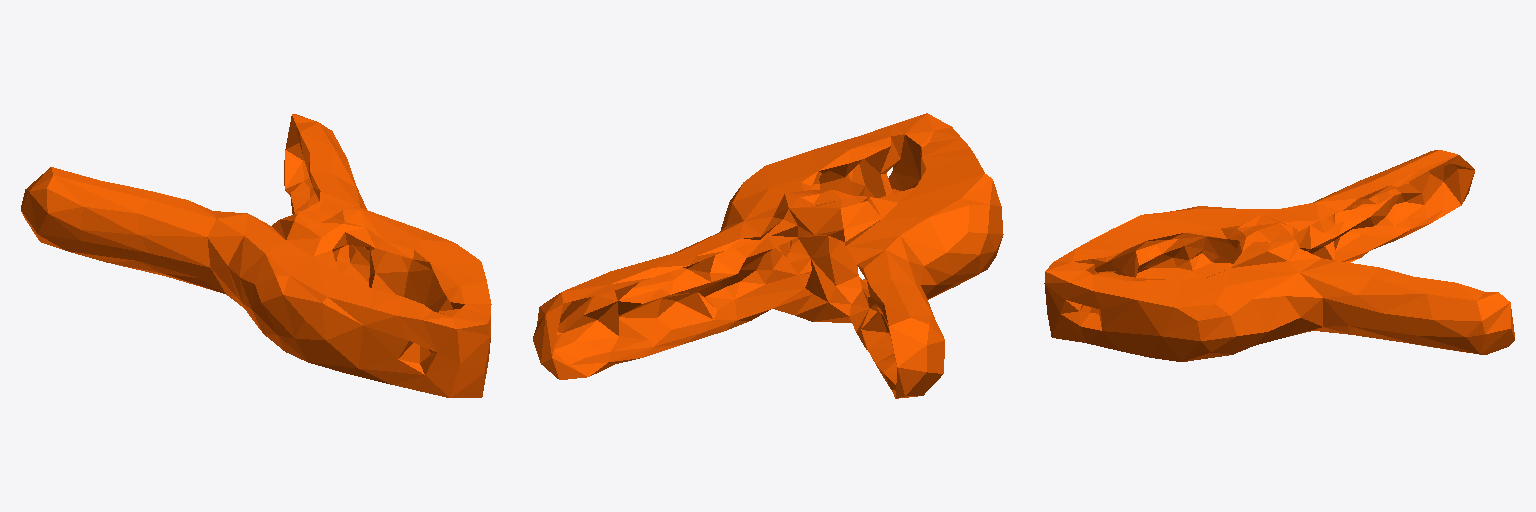
The robot description file, URDF, robot "051_large_clamp":
<?xml version="1.0" ?>
<robot name="051_large_clamp">
   <material name="obj_color">
      <color rgba="1.0 0.423529411765 0.0392156862745 1.0"/>
   </material>
   <link name="top">
      <inertial>
         <origin rpy="0.0001436432541415591 0.0002626893727610714 0.0003851939062057936" xyz="0.001584835345968209 -0.01194656325882585 -0.001367539672192929"/>
         <mass value="0.1695701014449372"/>
         <inertia ixx="0.0002597484097816631" ixy="2.11652629713565e-05" ixz="1.335456037694295e-05" iyy="0.0001484994902081587" iyz="-1.298009128614379e-05" izz="0.0003832786331186023"/>
      </inertial>
      <visual>
         <origin rpy="0 0 0" xyz="0 0 0"/>
         <geometry>
            <mesh filename="top_watertight_tiny.stl" scale="1 1 1"/>
         </geometry>
         <material name="obj_color"/>
      </visual>
      <collision>
         <origin rpy="0 0 0" xyz="0 0 0"/>
         <geometry>
            <mesh filename="top_watertight_tiny.obj" scale="1 1 1"/>
         </geometry>
      </collision>
   </link>
   <link name="bottom">
      <inertial>
         <origin rpy="1.633333333199431e-08 1.633333333199431e-08 1.633333333362855e-08" xyz="0.3464080000000008 0.3464080000000008 0.3464080000000008"/>
         <mass value="0.0009800000000000017"/>
         <inertia ixx="1.633333333253906e-08" ixy="5.447480642029219e-19" ixz="5.447480642029219e-19" iyy="1.633333333253906e-08" iyz="5.447480642029219e-19" izz="1.633333333253906e-08"/>
      </inertial>
      <visual>
         <origin rpy="0 0 0" xyz="0 0 0"/>
         <geometry>
            <mesh filename="bottom_watertight_tiny.stl" scale="1 1 1"/>
         </geometry>
         <material name="obj_color"/>
      </visual>
   </link>
   <link name="world"/>
   <joint name="world_to_base" type="fixed">
      <origin xyz="0 0 0"/>
      <axis xyz="0 0 0"/>
      <parent link="world"/>
      <child link="bottom"/>
   </joint>
   <joint name="rotation" type="revolute">
      <origin xyz="0 0 0"/>
      <axis xyz="0 0 -1"/>
      <parent link="bottom"/>
      <child link="top"/>
      <dynamics damping="1.0" friction="1.0"/>
      <limit effort="0.1" velocity="0.1" lower="0" upper="0.001"/>
   </joint>
</robot>

--- What the picture shows (computed from the rendered views, not written in the file) ---
3 views of the same robot in one strip: view 1: azimuth 30°, elevation 25°; view 2: azimuth 150°, elevation 25°; view 3: azimuth 270°, elevation 25° (orthographic).
Robot: 051_large_clamp — 3 links, 2 joints (1 revolute, 1 fixed); root link world; default pose: every joint at zero.
Visible links, largest first — view 1: top; view 2: top; view 3: top.
Boxes of the visible links, box(x1,y1,x2,y2) form: top: box(21, 114, 491, 397); top: box(533, 113, 1003, 398); top: box(1044, 150, 1514, 361).
Size in the robot's own frame: 0.1194 by 0.1694 by 0.0392 metres.
1 mesh visuals loaded from 2 distinct referenced files (1 binary STL); not drawn: 1 (reference not matched to a file when rendering).